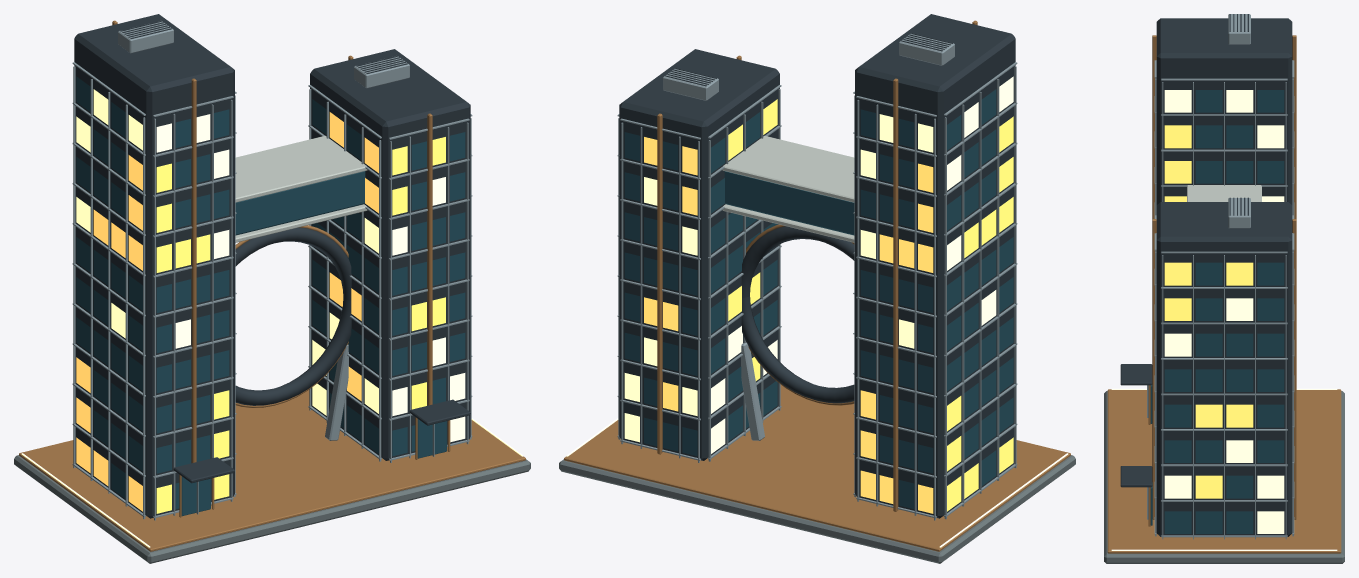
Rendered from integration-gate.lod0.glb.
3 views of the same model, side by side, from view 1: azimuth 30°, elevation 25°; view 2: azimuth 150°, elevation 25°; view 3: azimuth 270°, elevation 25° (orthographic). The views are drawn at different scales.
Parts seen in each view (by area): view 1: structure; view 2: structure; view 3: structure.
Boxes of the visible parts, x1,y1,x2,y2 form: structure: (14, 14, 530, 563); structure: (559, 14, 1075, 563); structure: (1104, 14, 1344, 563).
Size of the model in its own units: 26 by 29.93 by 16.
